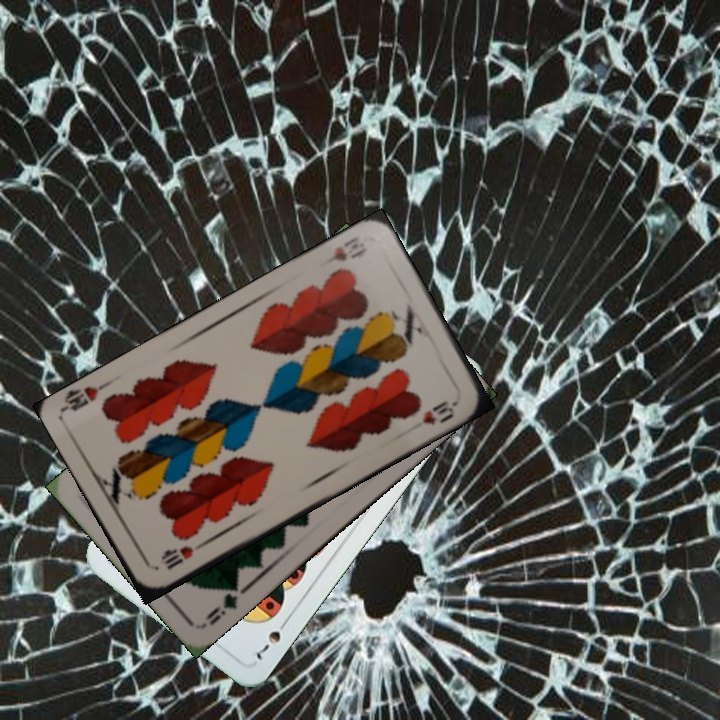G9: (199, 578, 248, 629)
H10: (315, 232, 361, 271), (158, 538, 208, 573)
S7: (252, 614, 292, 664)
